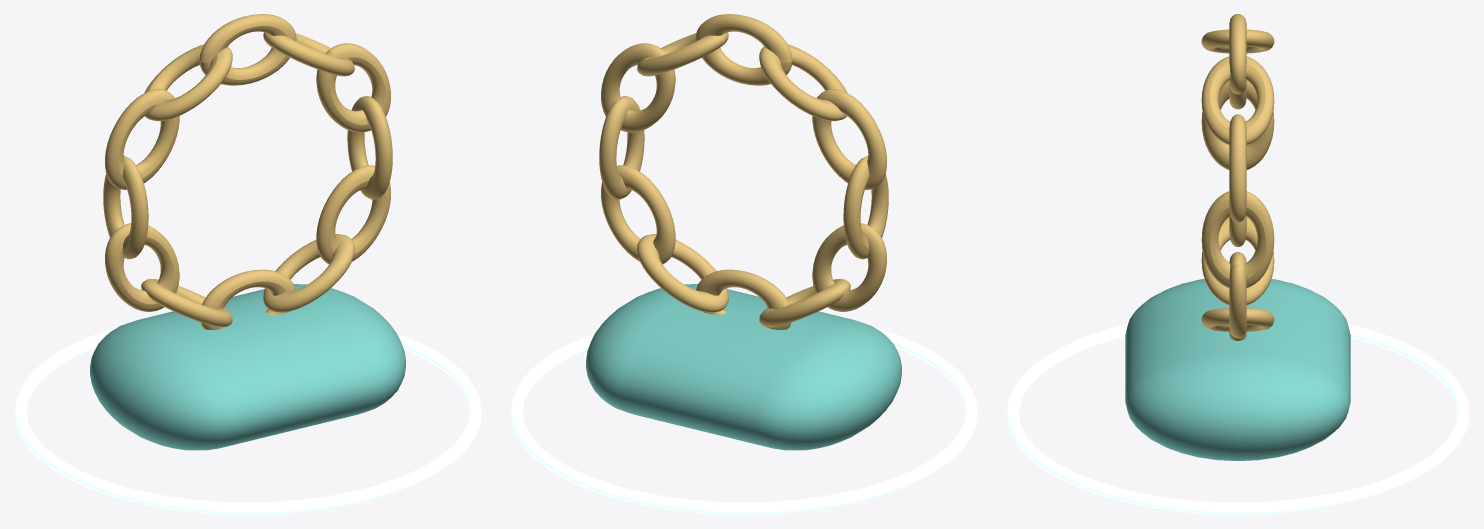
File: tiffany-hardwear-bracelet.glb
The picture shows the model from 3 angles, left to right: view 1: azimuth 30°, elevation 25°; view 2: azimuth 150°, elevation 25°; view 3: azimuth 270°, elevation 25°; orthographic projection.
Visible parts, largest first — view 1: Cushion, Oval (×12), Halo; view 2: Cushion, Oval (×12), Halo; view 3: Cushion, Oval (×9), Halo.
Part boxes in pixels (box(x1,y1,x2,y2)): Cushion: box(90, 284, 405, 450); Oval (×12): box(103, 14, 392, 329); Halo: box(14, 327, 481, 514); Cushion: box(586, 284, 901, 450); Oval (×12): box(599, 14, 888, 329); Halo: box(510, 327, 977, 514); Cushion: box(1125, 279, 1350, 460); Oval (×9): box(1201, 14, 1274, 338); Halo: box(1006, 324, 1469, 514).
Bounding box in the file's own units: 0.1028 × 0.0975 × 0.1028.
